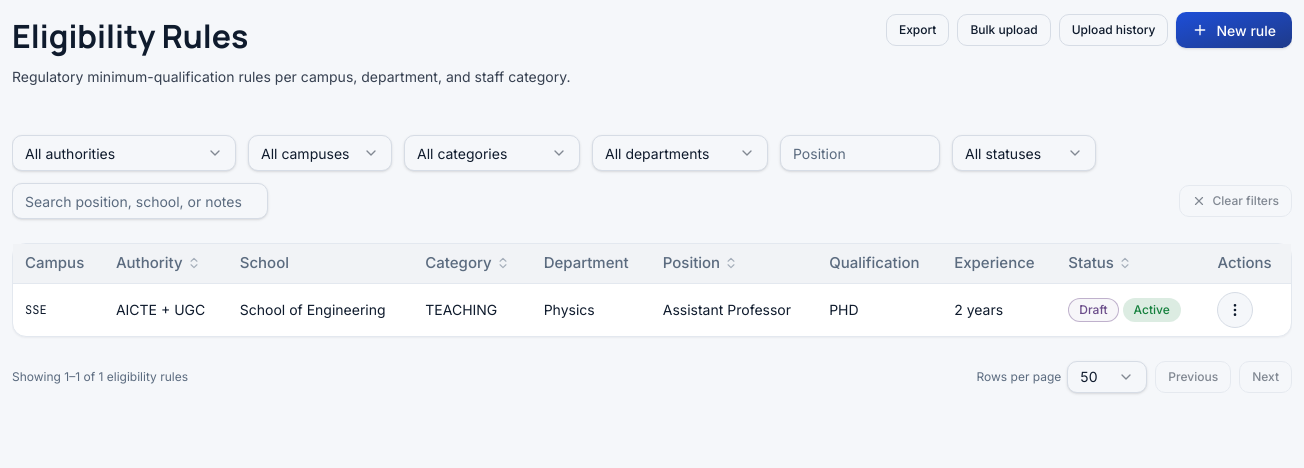
Scenario: EligibilityRulesPage › shows a 'Clear filters' empty state when filters narrow the list to zero results
Check: the text "Assistant Professor" is shown, box x1=651 y1=283 x2=817 y2=336
Type "Nonexistent" into the field named "Search eligibility rules".
click(140, 201); type("Nonexistent")  # box x1=12 y1=183 x2=268 y2=219
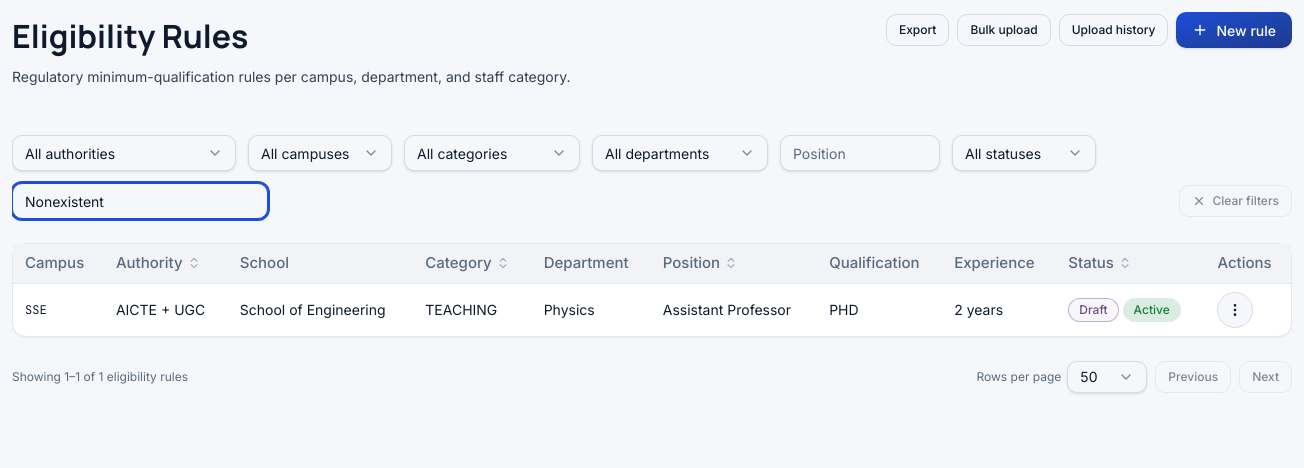
Press Tab
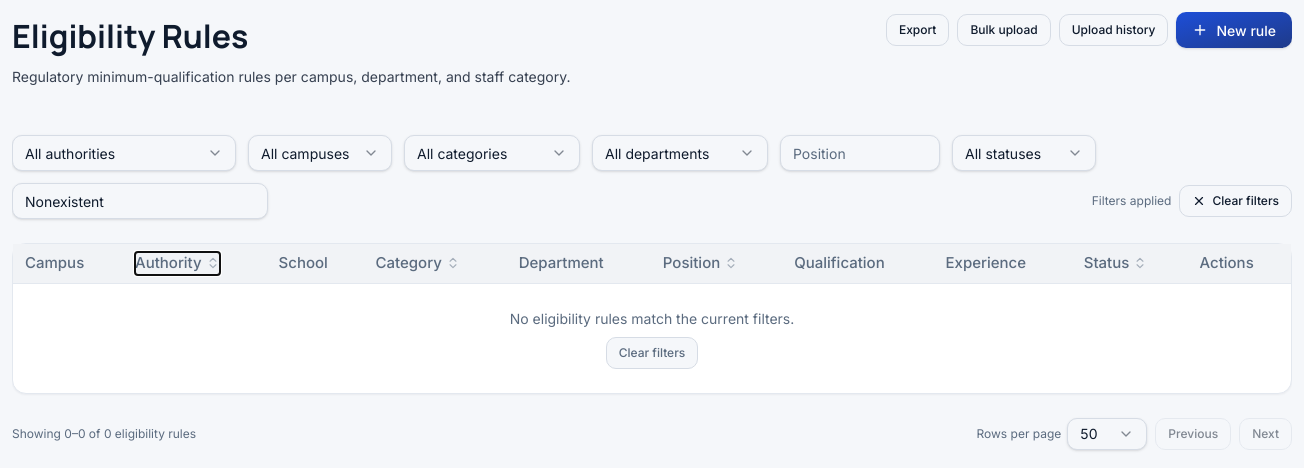
Check: the text "No eligibility rules match the current filters." is shown, box x1=510 y1=308 x2=794 y2=328
